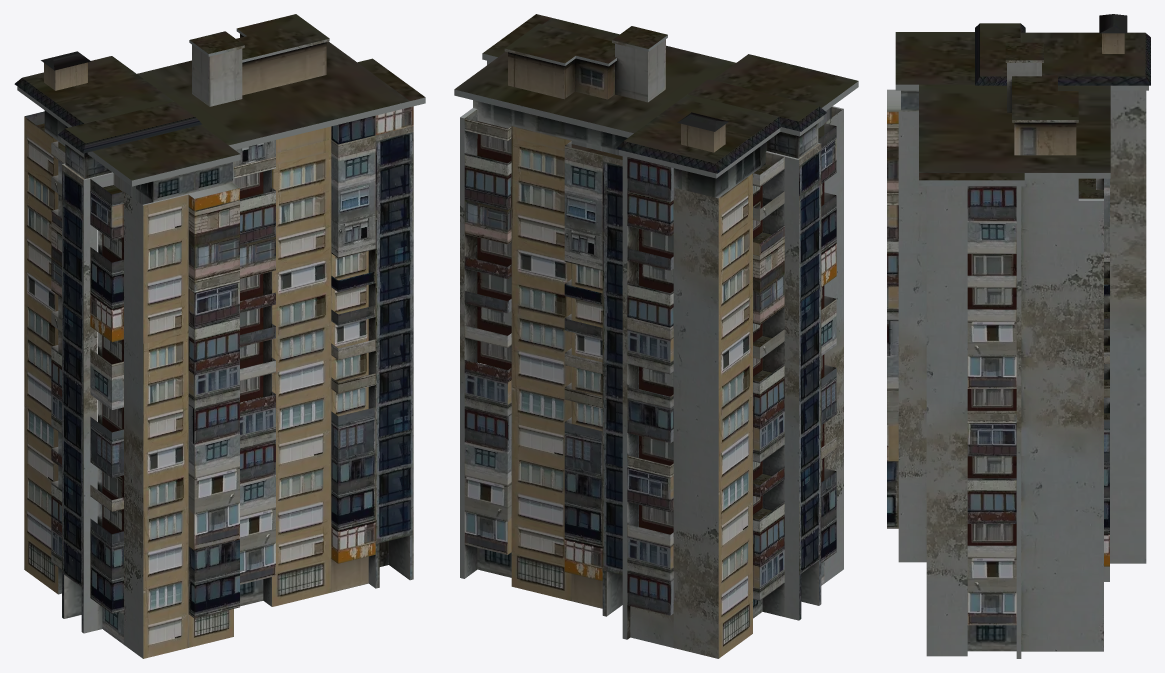
The model's file is apartment_b.glb.
3 views of the same model, side by side, from view 1: azimuth 30°, elevation 25°; view 2: azimuth 150°, elevation 25°; view 3: azimuth 270°, elevation 25° (orthographic). The views are drawn at different scales.
Parts seen in each view (by area): view 1: project_building01_reference; view 2: project_building01_reference; view 3: project_building01_reference.
Part boxes in pixels (x1,y1,x2,y2): project_building01_reference: (14, 14, 425, 658); project_building01_reference: (454, 14, 858, 658); project_building01_reference: (887, 14, 1150, 658).
Size of the model in its own units: 1241 by 2023 by 907.
Materials: 1 (1 with a texture image).
